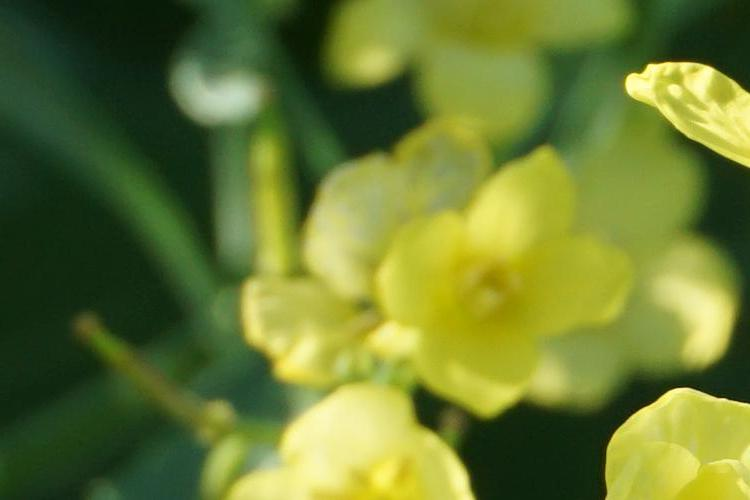pod: (62, 300, 202, 429)
yellow: (376, 159, 604, 408), (232, 406, 461, 500), (596, 386, 744, 494), (627, 62, 749, 155)
